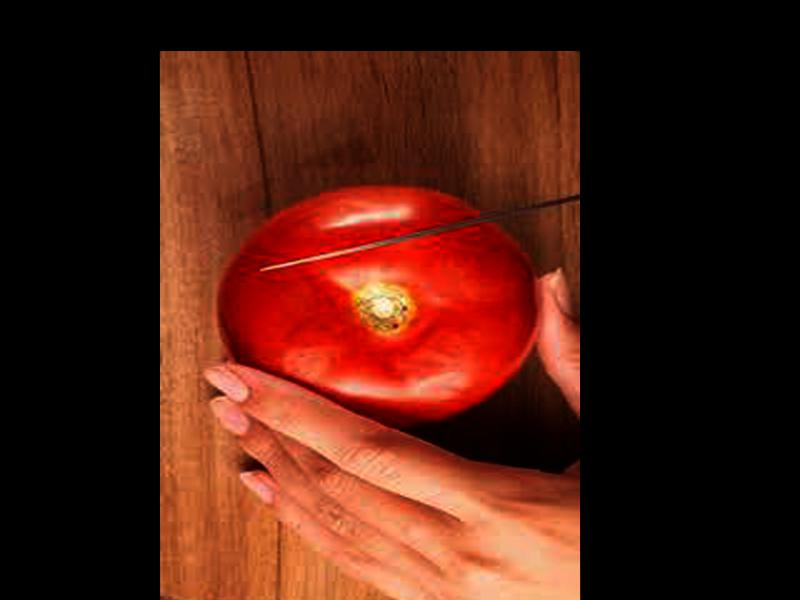Tomato: (220, 190, 535, 429)
